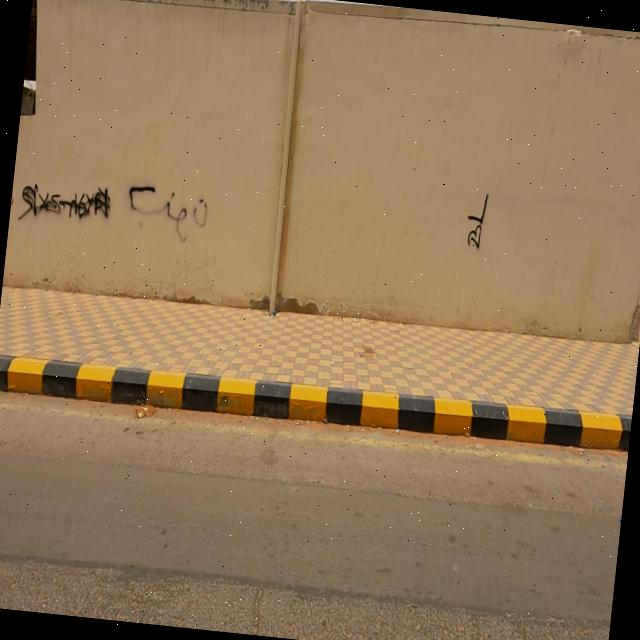Graffiti: (126, 183, 211, 247), (20, 174, 113, 230), (464, 192, 491, 252)
